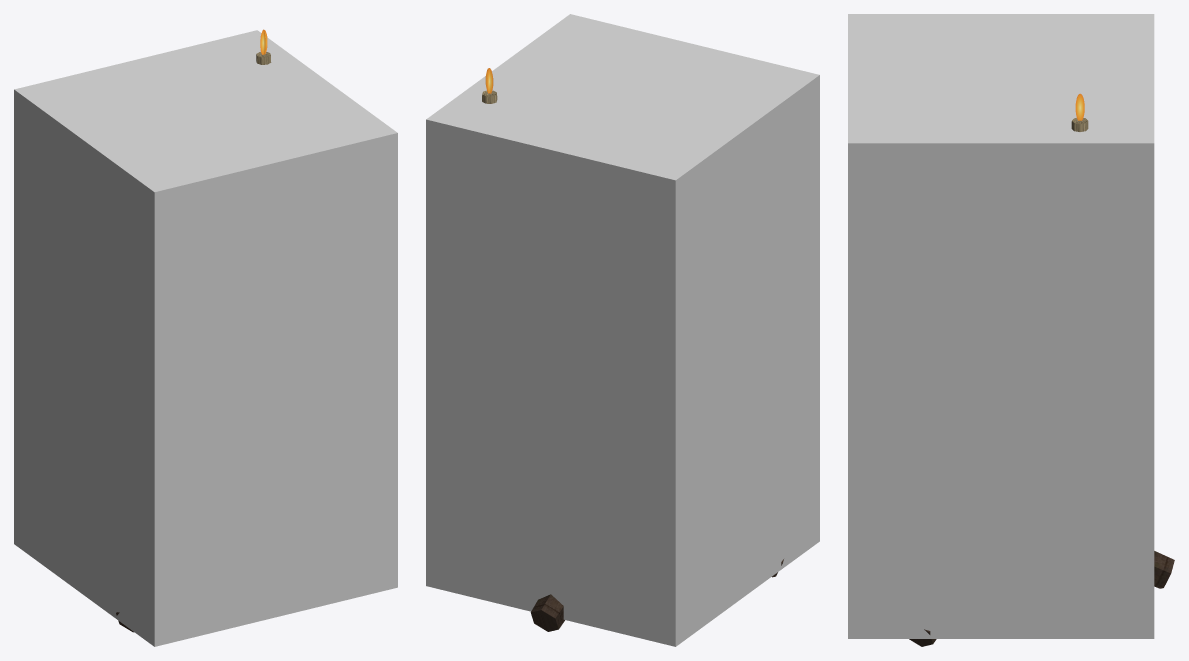
File: lectern_book_v1_lite.glb
3 renders of one model, left to right at view 1: azimuth 30°, elevation 25°; view 2: azimuth 150°, elevation 25°; view 3: azimuth 270°, elevation 25°, orthographic. The views are drawn at different scales.
Visible parts, largest first — view 1: col_lectern; view 2: col_lectern, lectern; view 3: col_lectern, lectern.
Part boxes in pixels (x1=…): col_lectern: x1=14, y1=30, x2=397, y2=646; col_lectern: x1=426, y1=14, x2=819, y2=646; lectern: x1=482, y1=68, x2=783, y2=631; col_lectern: x1=848, y1=14, x2=1154, y2=638; lectern: x1=909, y1=93, x2=1174, y2=646.
Bounding box in the file's own units: 0.7073 × 1.41 × 0.7468.
7 materials, 7 textured.
